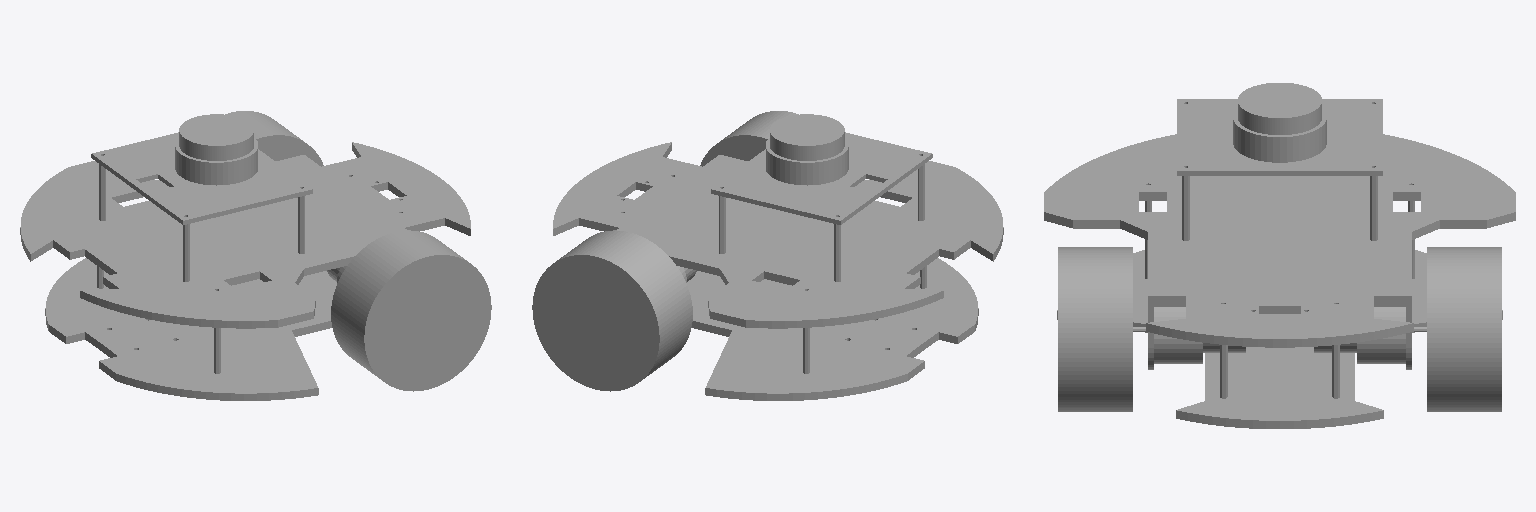
The robot description file, URDF, robot "delivery_car_URDF_MAIN":
<?xml version='1.0' encoding='UTF-8'?>
<!-- =================================================================================== -->
<!-- |    This document was autogenerated by xacro from urdf/delivery_car_URDF_MAIN.xacro | -->
<!-- |    EDITING THIS FILE BY HAND IS NOT RECOMMENDED                                 | -->
<!-- =================================================================================== -->
<robot xmlns:xacro="http://www.ros.org/wiki/xacro" name="delivery_car_URDF_MAIN">
  <material name="silver">
    <color rgba="0.700 0.700 0.700 1.000"/>
  </material>
  <transmission name="wheel_joint_r_tran">
    <type>transmission_interface/SimpleTransmission</type>
    <joint name="wheel_joint_r">
      <hardwareInterface>hardware_interface/EffortJointInterface</hardwareInterface>
    </joint>
    <actuator name="wheel_joint_r_actr">
      <hardwareInterface>hardware_interface/EffortJointInterface</hardwareInterface>
      <mechanicalReduction>1</mechanicalReduction>
    </actuator>
  </transmission>
  <transmission name="wheel_joint_l_tran">
    <type>transmission_interface/SimpleTransmission</type>
    <joint name="wheel_joint_l">
      <hardwareInterface>hardware_interface/EffortJointInterface</hardwareInterface>
    </joint>
    <actuator name="wheel_joint_l_actr">
      <hardwareInterface>hardware_interface/EffortJointInterface</hardwareInterface>
      <mechanicalReduction>1</mechanicalReduction>
    </actuator>
  </transmission>
  <transmission name="lidar_joint_tran">
    <type>transmission_interface/SimpleTransmission</type>
    <joint name="lidar_joint">
      <hardwareInterface>hardware_interface/EffortJointInterface</hardwareInterface>
    </joint>
    <actuator name="lidar_joint_actr">
      <hardwareInterface>hardware_interface/EffortJointInterface</hardwareInterface>
      <mechanicalReduction>1</mechanicalReduction>
    </actuator>
  </transmission>
  <gazebo>
    <plugin name="control" filename="libgazebo_ros_control.so"/>
  </gazebo>
  <gazebo reference="base_link">
    <material>Gazebo/Silver</material>
    <mu1>0.2</mu1>
    <mu2>0.2</mu2>
    <selfCollide>true</selfCollide>
    <gravity>true</gravity>
  </gazebo>
  <gazebo reference="wheel_r_1">
    <material>Gazebo/Silver</material>
    <mu1>0.2</mu1>
    <mu2>0.2</mu2>
    <selfCollide>true</selfCollide>
  </gazebo>
  <gazebo reference="wheel_l_1">
    <material>Gazebo/Silver</material>
    <mu1>0.2</mu1>
    <mu2>0.2</mu2>
    <selfCollide>true</selfCollide>
  </gazebo>
  <gazebo reference="lidar_1">
    <material>Gazebo/Silver</material>
    <mu1>0.2</mu1>
    <mu2>0.2</mu2>
    <selfCollide>true</selfCollide>
  </gazebo>
  <gazebo reference="caster_1">
    <material>Gazebo/Silver</material>
    <mu1>0.2</mu1>
    <mu2>0.2</mu2>
    <selfCollide>true</selfCollide>
  </gazebo>
  <link name="base_link">
    <inertial>
      <origin xyz="-0.0006645724199527993 2.503671643028555e-11 0.04142625154656839" rpy="0 0 0"/>
      <mass value="4.015952469795995"/>
      <inertia ixx="0.014374" iyy="0.019519" izz="0.02512" ixy="0.0" iyz="0.0" ixz="0.000469"/>
    </inertial>
    <visual>
      <origin xyz="0 0 0" rpy="0 0 0"/>
      <geometry>
        <mesh filename="package://delivery_robot_description/meshes/base_link.stl" scale="0.001 0.001 0.001"/>
      </geometry>
      <material name="silver"/>
    </visual>
    <collision>
      <origin xyz="0 0 0" rpy="0 0 0"/>
      <geometry>
        <mesh filename="package://delivery_robot_description/meshes/base_link.stl" scale="0.001 0.001 0.001"/>
      </geometry>
    </collision>
  </link>
  <link name="wheel_r_1">
    <inertial>
      <origin xyz="8.6426734519085e-10 -0.019999817995062688 3.531799767572674e-08" rpy="0 0 0"/>
      <mass value="1.9097867404878486"/>
      <inertia ixx="0.001179" iyy="0.001849" izz="0.001179" ixy="0.0" iyz="0.0" ixz="-0.0"/>
    </inertial>
    <visual>
      <origin xyz="-0.058 0.0975 -0.029757" rpy="0 0 0"/>
      <geometry>
        <mesh filename="package://delivery_robot_description/meshes/wheel_r_1.stl" scale="0.001 0.001 0.001"/>
      </geometry>
      <material name="silver"/>
    </visual>
    <collision>
      <origin xyz="-0.058 0.0975 -0.029757" rpy="0 0 0"/>
      <geometry>
        <mesh filename="package://delivery_robot_description/meshes/wheel_r_1.stl" scale="0.001 0.001 0.001"/>
      </geometry>
    </collision>
  </link>
  <link name="wheel_l_1">
    <inertial>
      <origin xyz="8.6426734519085e-10 0.019999817995062702 3.531799767572674e-08" rpy="0 0 0"/>
      <mass value="1.9097867404878486"/>
      <inertia ixx="0.001179" iyy="0.001849" izz="0.001179" ixy="0.0" iyz="0.0" ixz="-0.0"/>
    </inertial>
    <visual>
      <origin xyz="-0.058 -0.0975 -0.029757" rpy="0 0 0"/>
      <geometry>
        <mesh filename="package://delivery_robot_description/meshes/wheel_l_1.stl" scale="0.001 0.001 0.001"/>
      </geometry>
      <material name="silver"/>
    </visual>
    <collision>
      <origin xyz="-0.058 -0.0975 -0.029757" rpy="0 0 0"/>
      <geometry>
        <mesh filename="package://delivery_robot_description/meshes/wheel_l_1.stl" scale="0.001 0.001 0.001"/>
      </geometry>
    </collision>
  </link>
  <link name="lidar_1">
    <inertial>
      <origin xyz="-3.469446951953614e-18 0.0 0.005000000000000018" rpy="0 0 0"/>
      <mass value="0.12484885554906686"/>
      <inertia ixx="1.7e-05" iyy="1.7e-05" izz="3.2e-05" ixy="-0.0" iyz="0.0" ixz="-0.0"/>
    </inertial>
    <visual>
      <origin xyz="0.02 -0.0 -0.118" rpy="0 0 0"/>
      <geometry>
        <mesh filename="package://delivery_robot_description/meshes/lidar_1.stl" scale="0.001 0.001 0.001"/>
      </geometry>
      <material name="silver"/>
    </visual>
    <collision>
      <origin xyz="0.02 -0.0 -0.118" rpy="0 0 0"/>
      <geometry>
        <mesh filename="package://delivery_robot_description/meshes/lidar_1.stl" scale="0.001 0.001 0.001"/>
      </geometry>
    </collision>
  </link>
  <link name="caster_1">
    <inertial>
      <origin xyz="-0.06999999999999999 8.665825403357733e-19 -0.0043060210501917485" rpy="0 0 0"/>
      <mass value="0.01950642629349009"/>
      <inertia ixx="1e-06" iyy="1e-06" izz="1e-06" ixy="-0.0" iyz="-0.0" ixz="-0.0"/>
    </inertial>
    <collision>
      <origin xyz="-0.0 -0.0 -0.0" rpy="0 0 0"/>
      <geometry>
        <mesh filename="package://delivery_robot_description/meshes/caster_1.stl" scale="0.001 0.001 0.001"/>
      </geometry>
    </collision>
  </link>
  <joint name="wheel_joint_r" type="continuous">
    <origin xyz="0.058 -0.0975 0.029757" rpy="0 0 0"/>
    <parent link="base_link"/>
    <child link="wheel_r_1"/>
    <axis xyz="0.0 1.0 0.0"/>
  </joint>
  <joint name="wheel_joint_l" type="continuous">
    <origin xyz="0.058 0.0975 0.029757" rpy="0 0 0"/>
    <parent link="base_link"/>
    <child link="wheel_l_1"/>
    <axis xyz="0.0 1.0 0.0"/>
  </joint>
  <joint name="lidar_joint" type="fixed">
    <origin xyz="-0.02 0.0 0.118" rpy="0 0 0"/>
    <parent link="base_link"/>
    <child link="lidar_1"/>
    </joint>
  <joint name="caster_joint" type="fixed">
    <origin xyz="0.0 0.0 0.0" rpy="0 0 0"/>
    <parent link="base_link"/>
    <child link="caster_1"/>
  </joint>

<gazebo>
  <plugin filename="gz-sim-diff-drive-system" name="gz::sim::systems::DiffDrive">

    <left_joint>wheel_joint_l</left_joint>
    <right_joint>wheel_joint_r</right_joint>

    <wheel_separation>0.195</wheel_separation>
    <wheel_radius>0.044</wheel_radius>

    <topic>/cmd_vel</topic>

    <max_linear_velocity>0.5</max_linear_velocity>
    <min_linear_velocity>-0.5</min_linear_velocity>

    <max_angular_velocity>1.0</max_angular_velocity>
    <min_angular_velocity>-1.0</min_angular_velocity>

  </plugin>
</gazebo>
</robot>

--- Facts derived from the render (not from the file) ---
Views: 3 orthographic renders of the robot side by side, from view 1: azimuth 30°, elevation 25°; view 2: azimuth 150°, elevation 25°; view 3: azimuth 270°, elevation 25°.
Robot: delivery_car_URDF_MAIN — 5 links, 4 joints (2 continuous, 2 fixed); root link base_link; default pose: every joint at zero.
Links seen in each view (by area): view 1: base_link, wheel_r_1, lidar_1, wheel_l_1; view 2: base_link, wheel_l_1, lidar_1, wheel_r_1; view 3: base_link, wheel_r_1, wheel_l_1, lidar_1.
Link boxes in pixels (x1,y1,x2,y2): base_link: (20,132,470,400); wheel_r_1: (331,230,491,391); lidar_1: (179,114,253,160); wheel_l_1: (225,111,323,166); base_link: (553,132,1003,400); wheel_l_1: (532,230,692,391); lidar_1: (770,114,844,160); wheel_r_1: (700,111,798,166); base_link: (1044,99,1515,428); wheel_r_1: (1058,247,1132,411); wheel_l_1: (1427,247,1501,411); lidar_1: (1238,83,1321,134).
Bounding box of the posed robot: 0.2667 × 0.2507 × 0.1422 m (x, y, z).
Meshes: 4 distinct files referenced, 4 mesh visuals loaded (4 binary STL).
